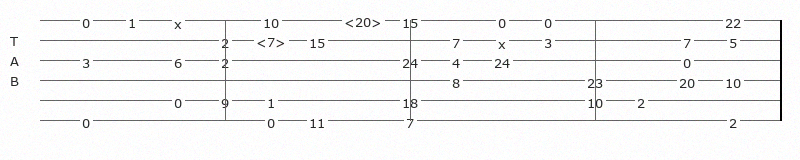0: (82, 14, 94, 27), (82, 114, 94, 127), (174, 94, 186, 107), (267, 114, 279, 127), (498, 14, 510, 27), (544, 14, 556, 27), (683, 54, 695, 67)
1: (128, 14, 140, 27), (267, 94, 279, 107)
10: (263, 14, 283, 27), (587, 94, 607, 107), (725, 74, 745, 87)
11: (309, 114, 329, 127)
15: (309, 34, 329, 47), (402, 14, 422, 27)
18: (402, 94, 422, 107)
2: (221, 54, 233, 67), (221, 34, 233, 47), (637, 94, 649, 107), (729, 114, 741, 127)
20: (679, 74, 699, 87)
22: (725, 14, 745, 27)
23: (587, 74, 607, 87)
24: (402, 54, 422, 67), (494, 54, 514, 67)
3: (82, 54, 94, 67), (544, 34, 556, 47)
4: (452, 54, 464, 67)
5: (729, 34, 741, 47)
6: (174, 54, 186, 67)
7: (406, 114, 418, 127), (452, 34, 464, 47), (683, 34, 695, 47)
8: (452, 74, 464, 87)
9: (221, 94, 233, 107)
harmonic: (344, 13, 386, 27), (256, 33, 290, 47)
x: (174, 15, 186, 26), (498, 35, 510, 46)
